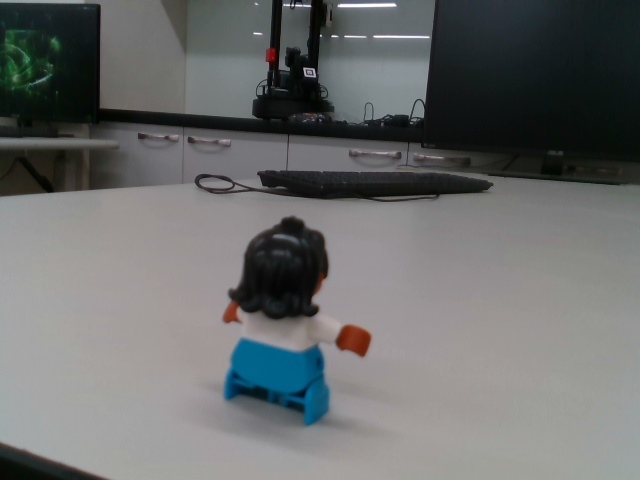people: (219, 212, 375, 429)
